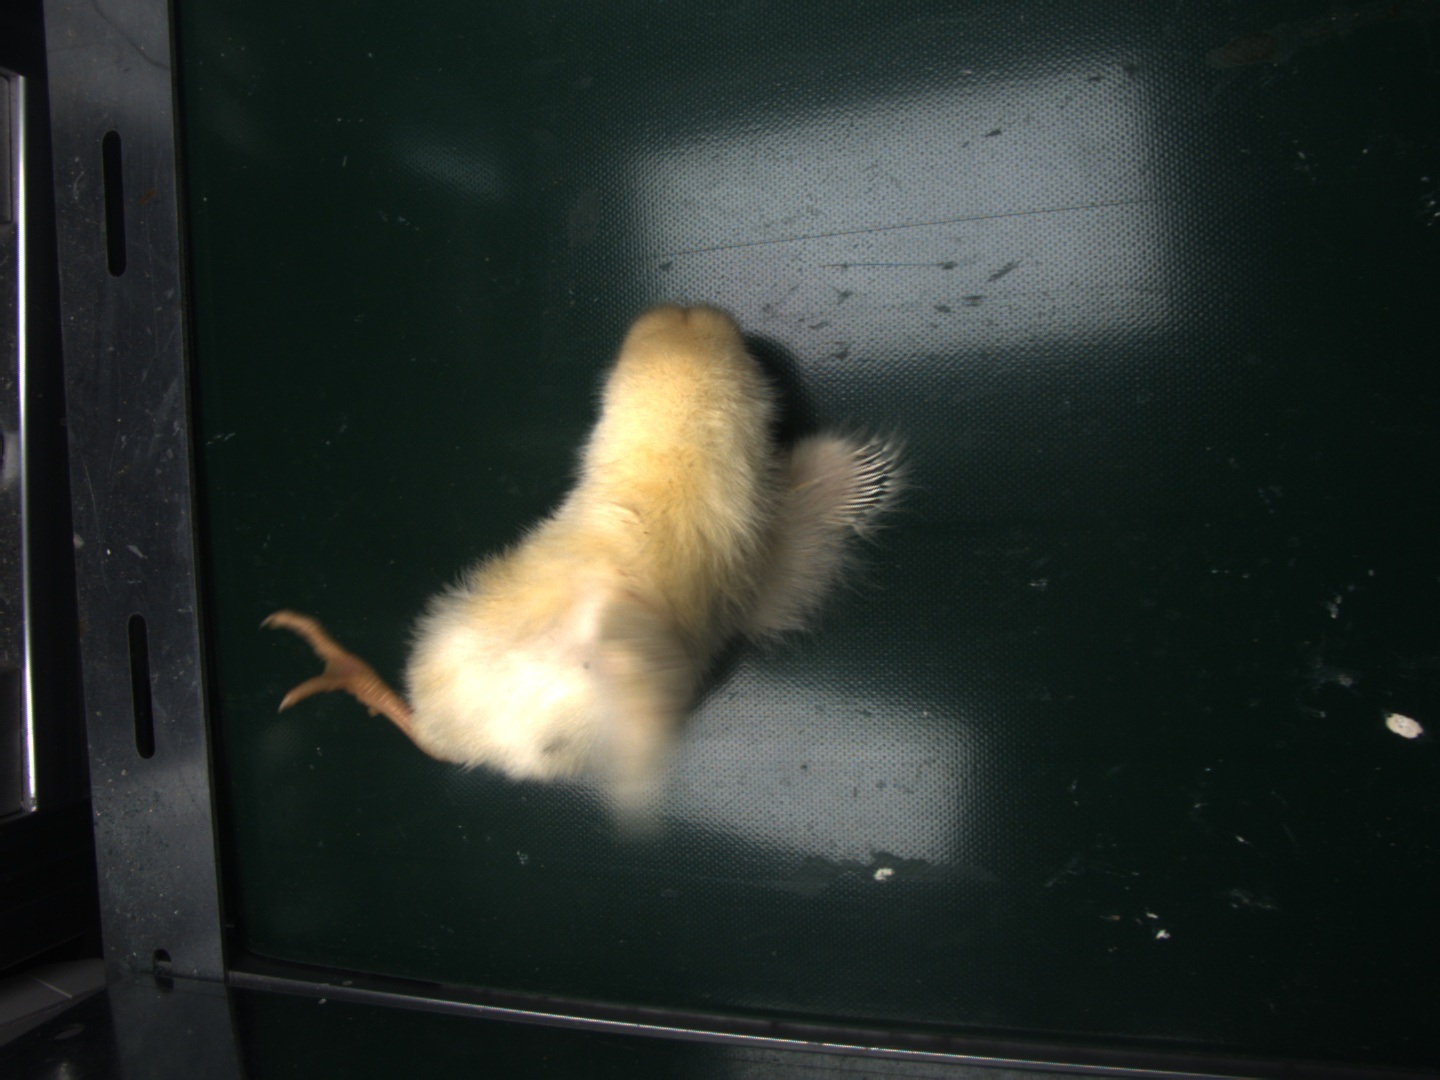male: (844, 446, 888, 526)
